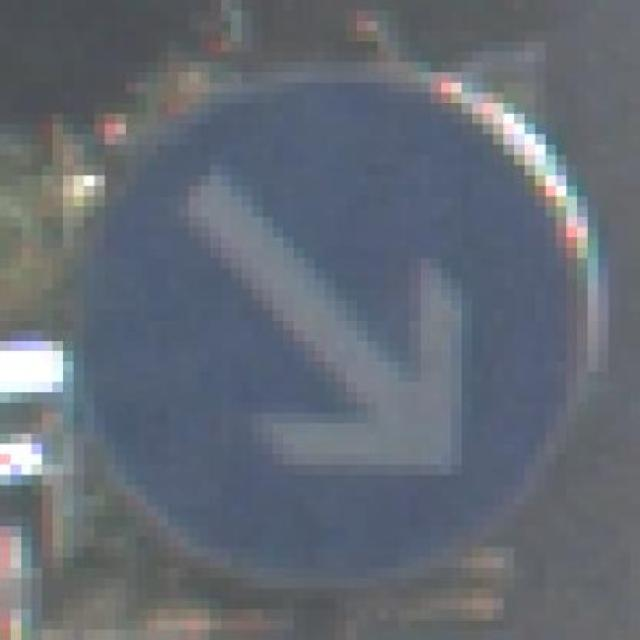Keep-Right: (41, 61, 598, 598)
